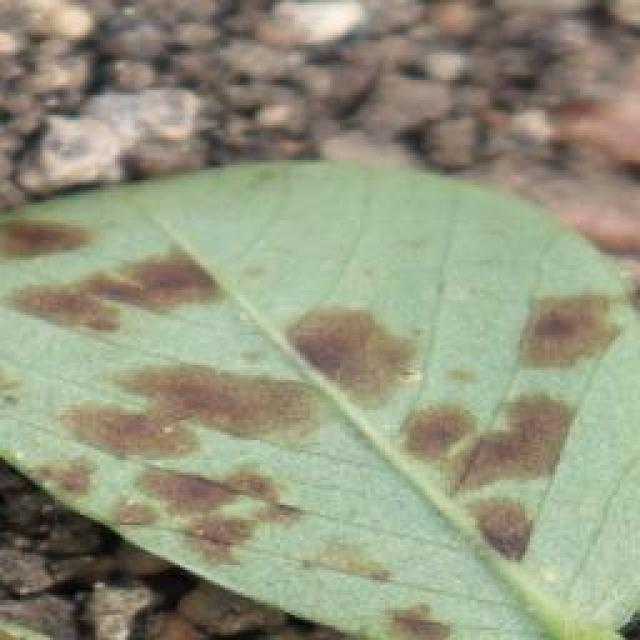Whitefly: (0, 164, 627, 620)
